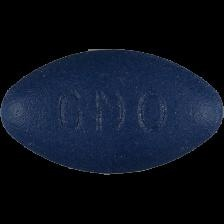13913-002: (0, 0, 224, 224)
